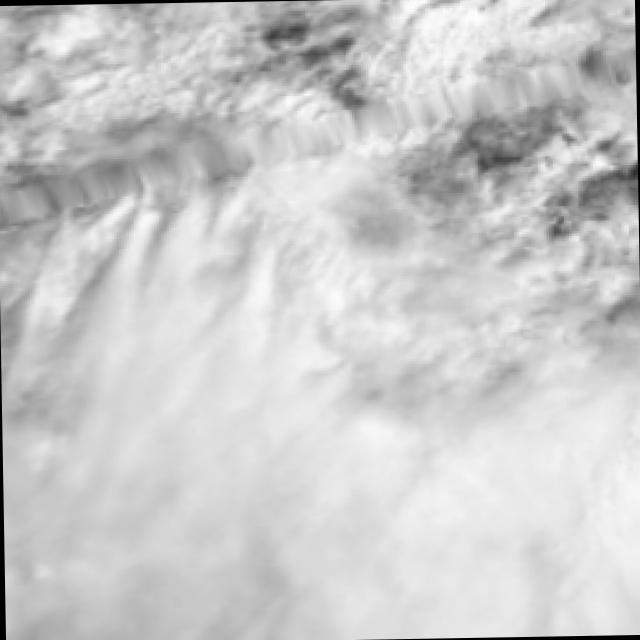CB: (2, 430, 640, 640), (78, 312, 282, 488)
